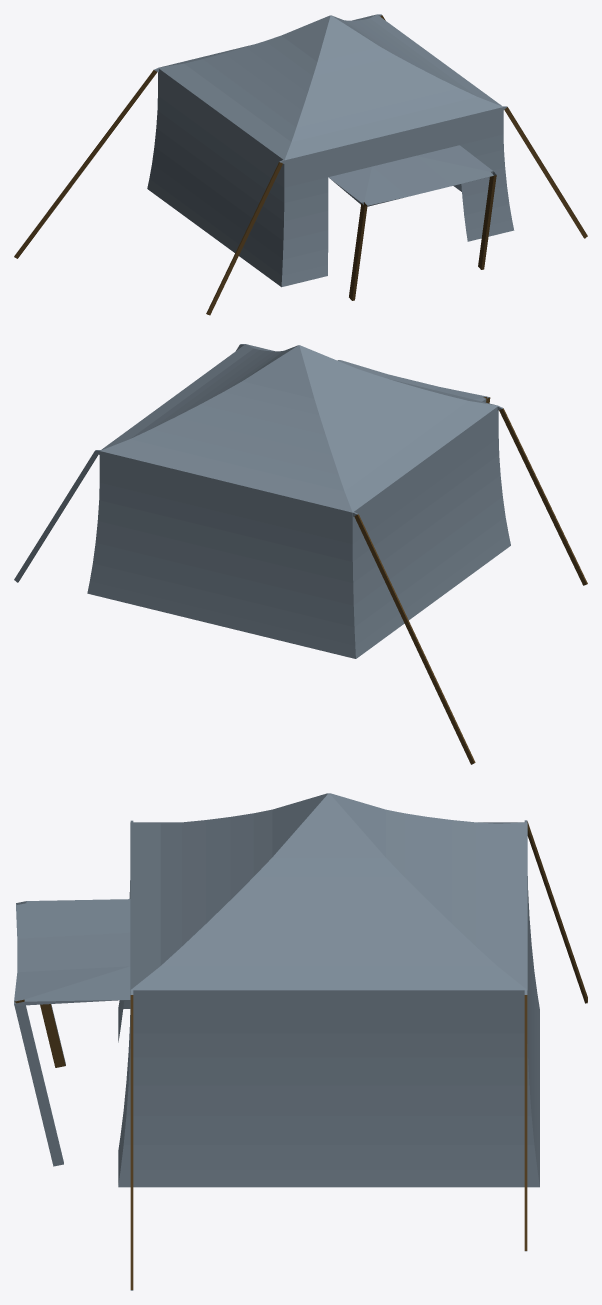
Rendered from presiaTent.gltf.
3 views of the same model, one above another, from view 1: azimuth 30°, elevation 25°; view 2: azimuth 150°, elevation 25°; view 3: azimuth 270°, elevation 25° (orthographic). The views are drawn at different scales.
Parts seen in each view (by area): view 1: Cube; view 2: Cube; view 3: Cube.
Boxes of the visible parts, box(x1,y1,x2,y2) form: Cube: box(14, 14, 587, 315); Cube: box(14, 344, 587, 764); Cube: box(14, 793, 587, 1290).
Bounding box in the file's own units: 5.87 × 3.22 × 4.34.
